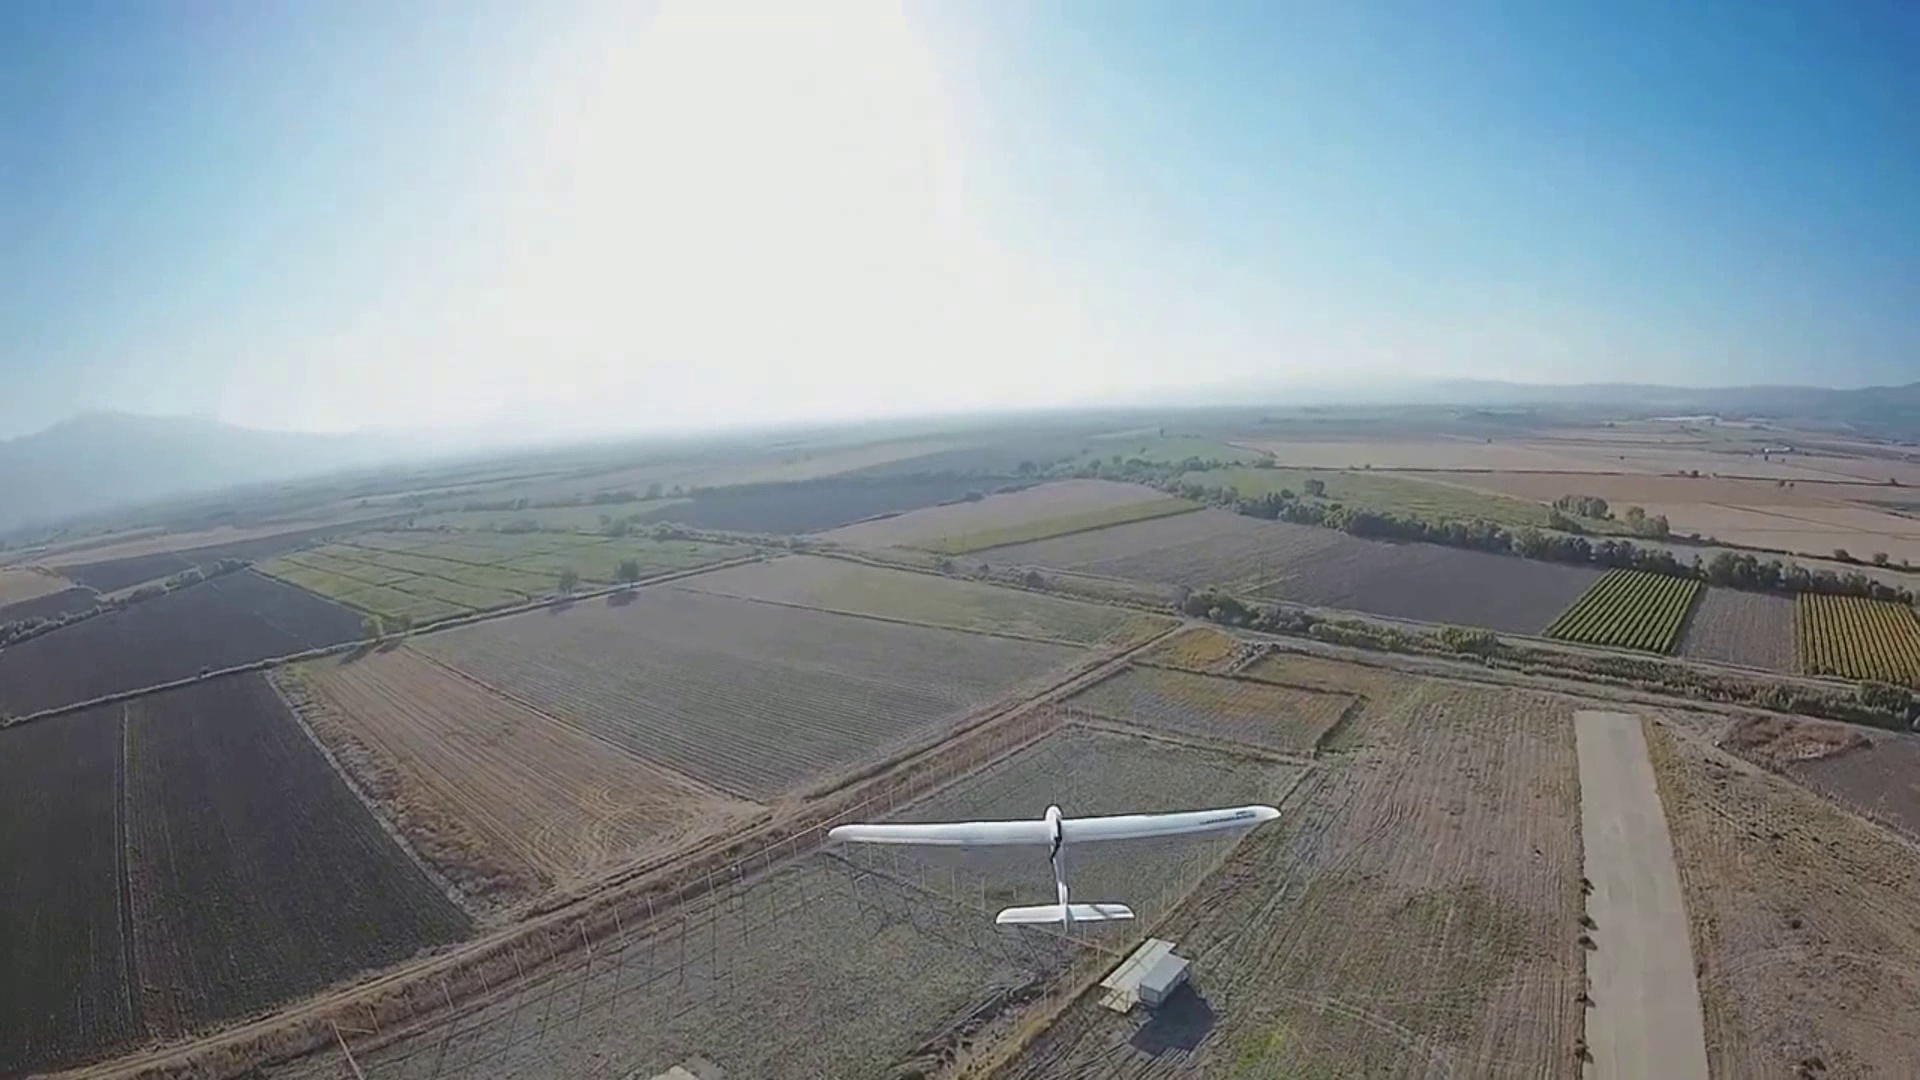airplane: (822, 802, 1273, 934)
